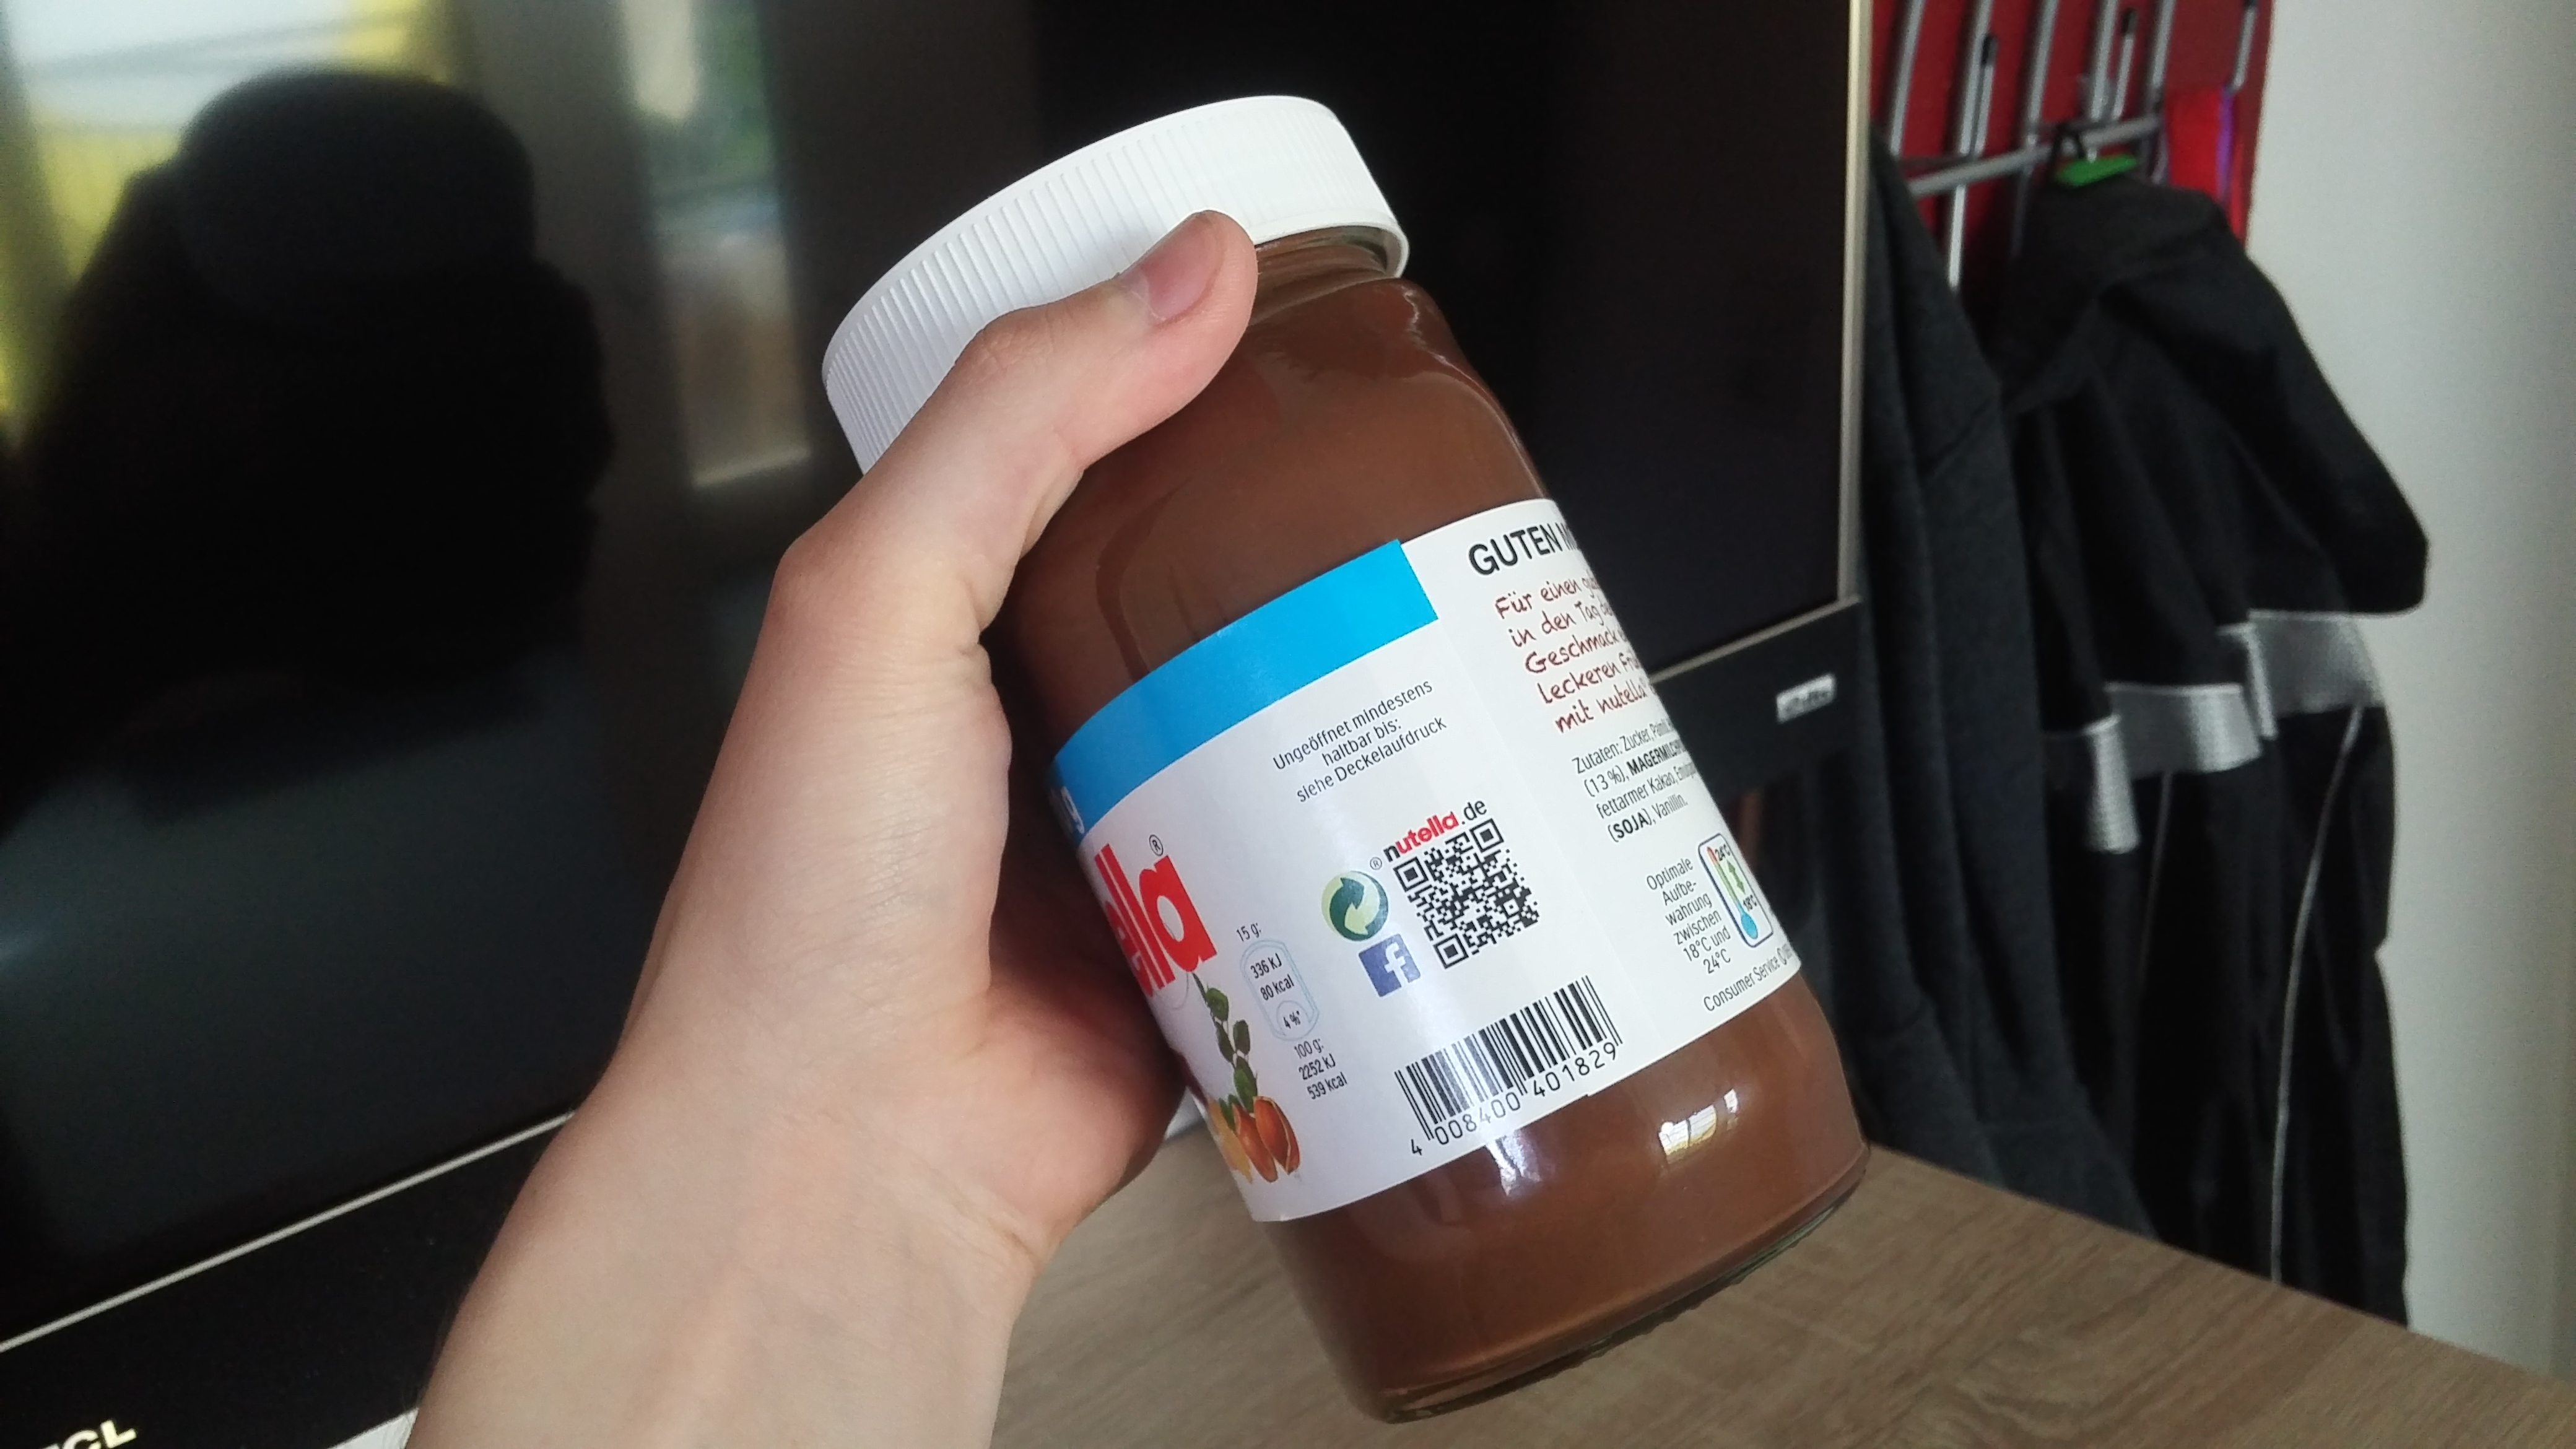nutella: (812, 96, 1870, 1424)
